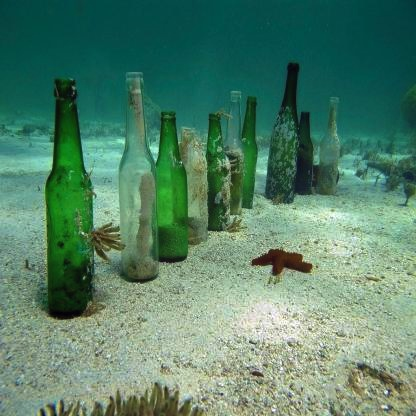gbottle: (46, 78, 97, 320), (118, 72, 160, 280), (153, 112, 189, 262), (265, 63, 301, 202), (175, 126, 209, 243), (204, 114, 230, 231), (223, 92, 243, 214), (239, 95, 259, 208), (320, 98, 342, 197), (295, 112, 314, 195)
